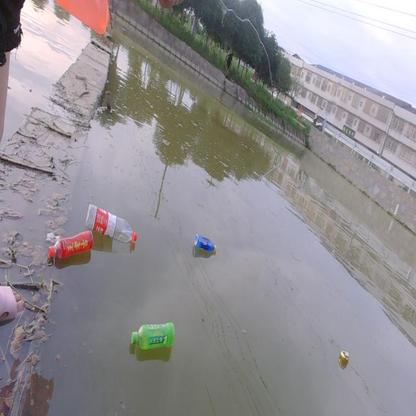can: (341, 351, 350, 363)
plastic bottle: (86, 204, 138, 242), (49, 230, 94, 258), (131, 323, 174, 349), (193, 233, 217, 253)
